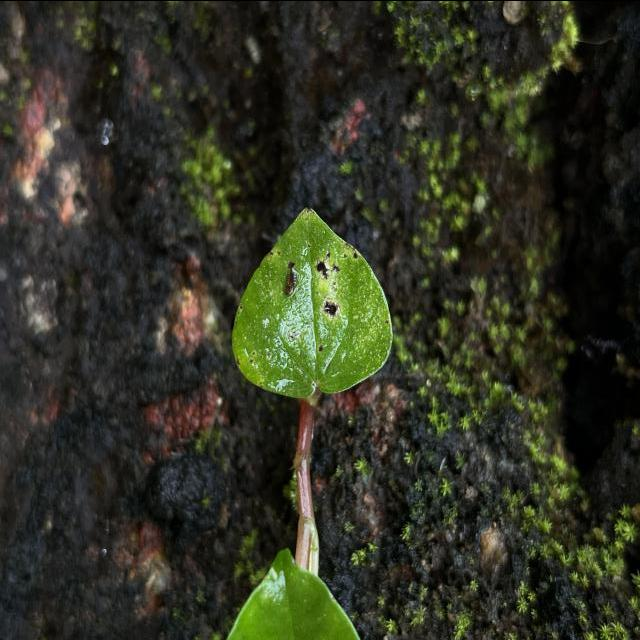Peperomia pellucida: (228, 202, 396, 402)
